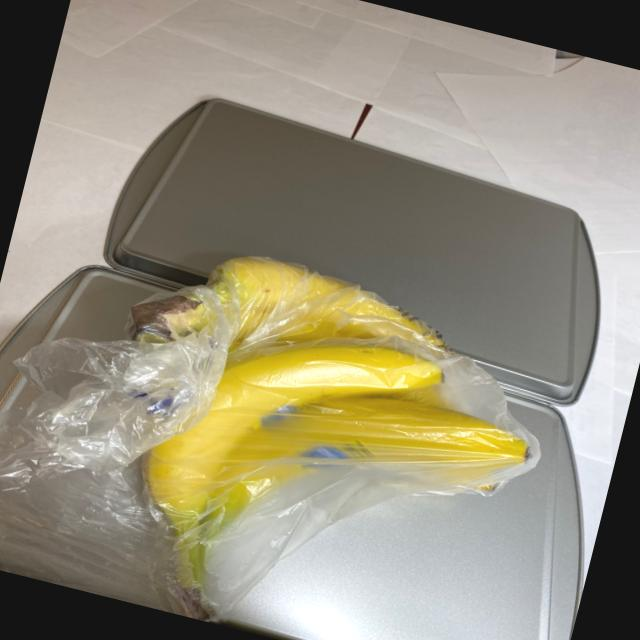banana: (62, 219, 569, 640)
